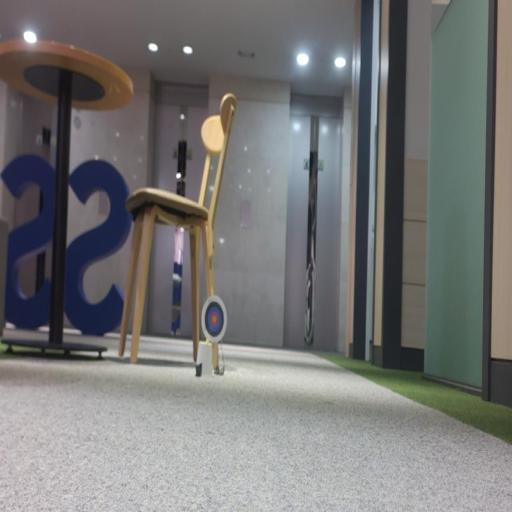target: (201, 295, 226, 343)
